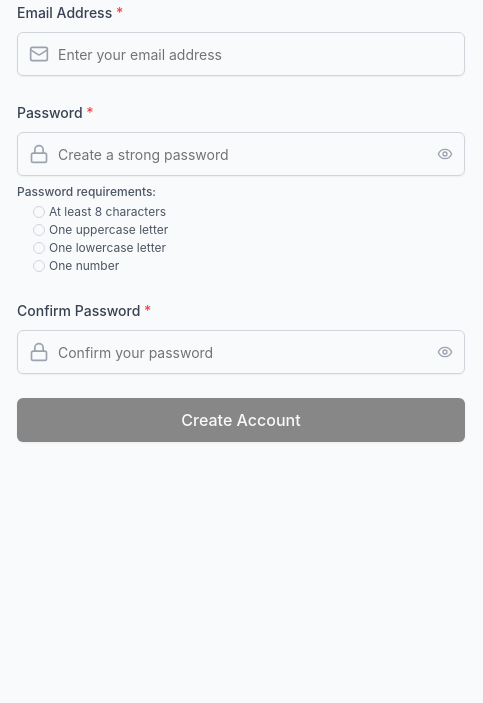
Test: RegisterForm › Validation errors › should not show retry button for validation errors
This screenshot has width=483, height=703.
Fill form
Step 1. Type "alice@example.com" into the field labelled "Email Address *" → (241, 54), box [17,32,465,76]
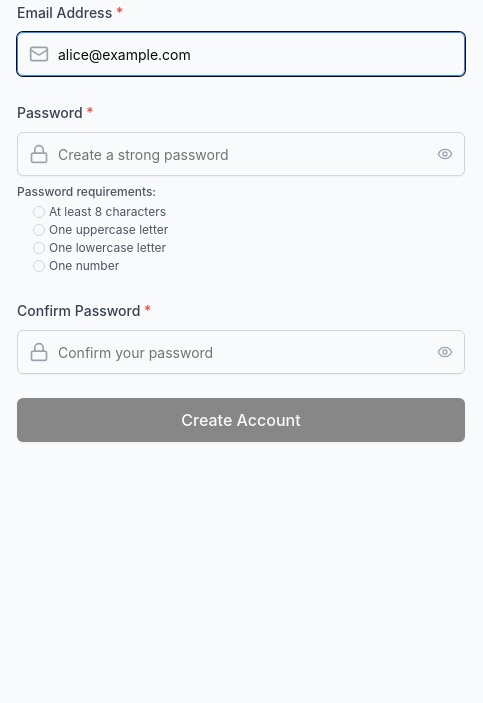
Step 2. Type "ValidPass123" into the password field labelled "Password *" → (241, 154), box [17,132,465,176]
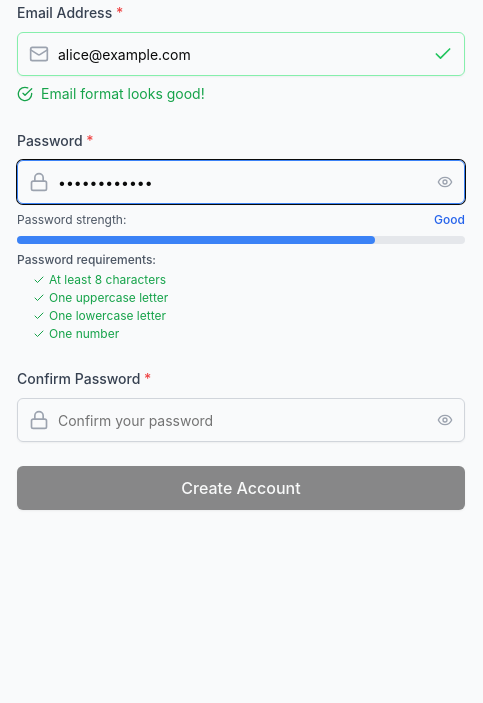
Step 3. Type "ValidPass123" into the password field labelled "Confirm Password *" → (241, 420), box [17,398,465,442]
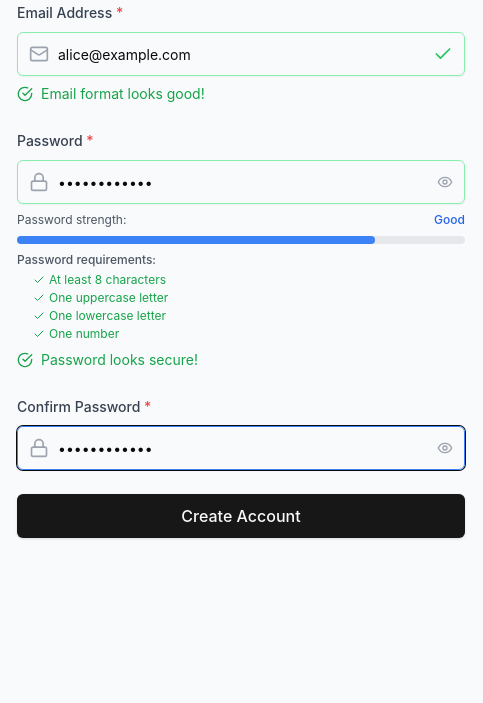
Submit form - should fail with validation error
Step 4. Click the button "Create Account" → (241, 516), box [17,494,465,538]
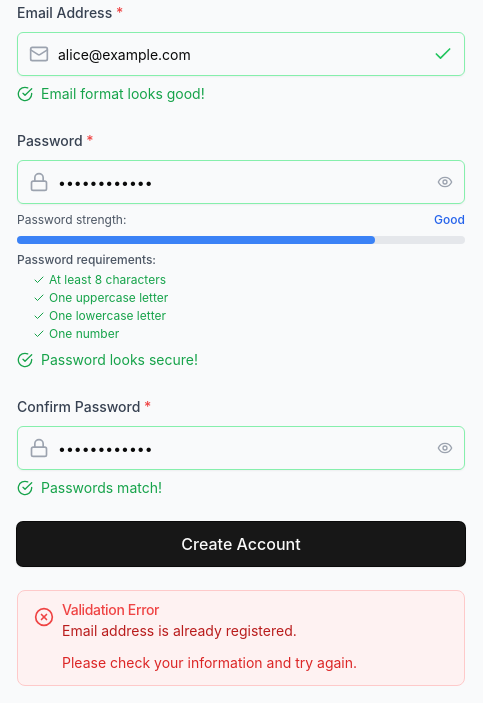
Check: the heading "Validation Error" is shown, box [62,601,159,618]
Check: the text "Email address is already registered." is shown, box [62,622,297,639]
Check: the text "Please check your information and try again." is shown, box [62,654,357,671]
